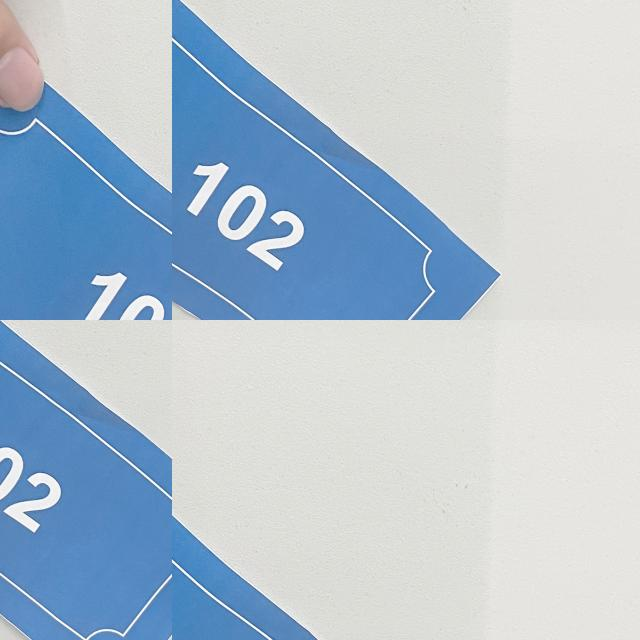Card: (172, 413, 505, 640), (0, 320, 172, 640), (0, 144, 172, 320), (172, 33, 272, 320)
